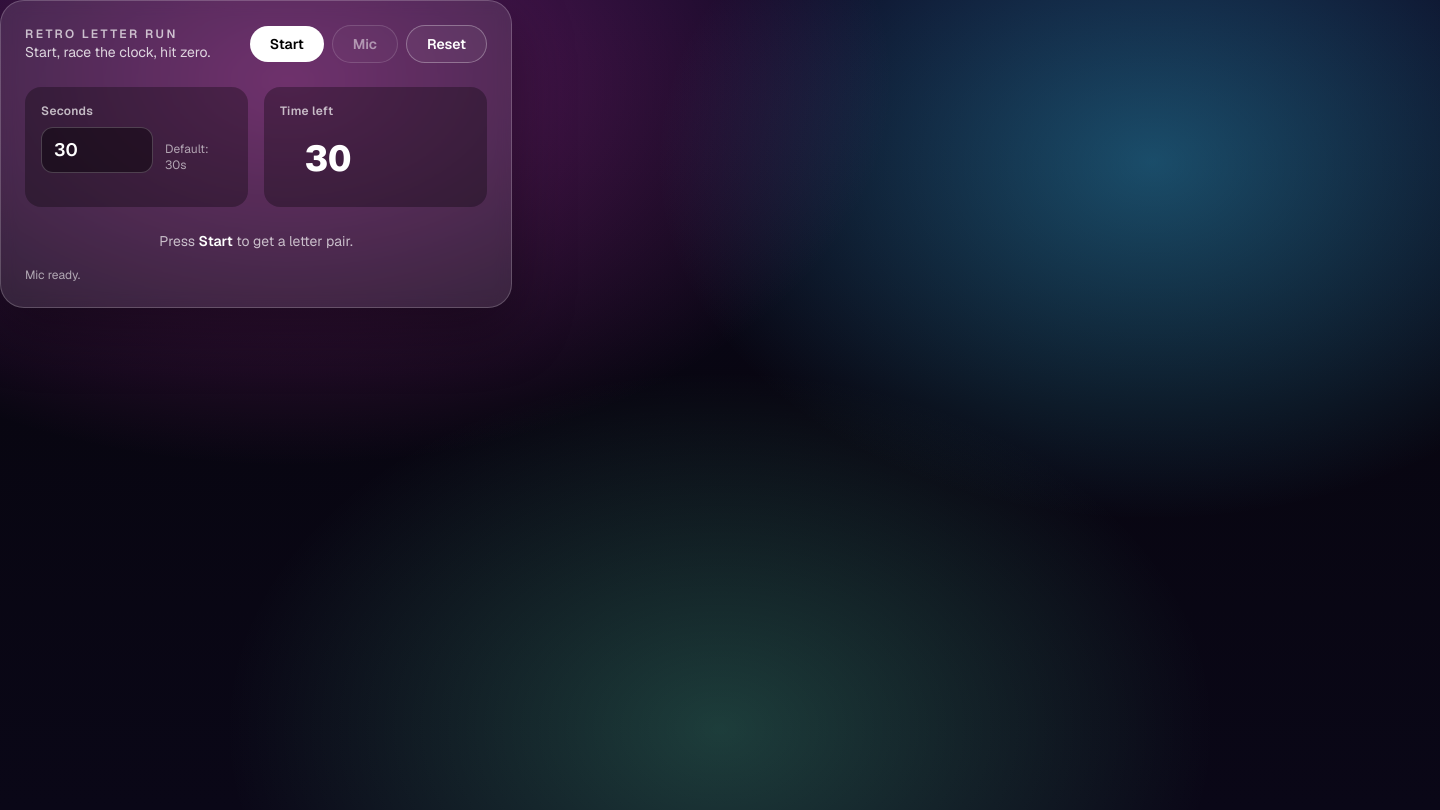
Test: LetterTimerGame › renders green/red tags for recognized dictionary words
Click the button "Start": (287, 44) 250,26 -> 324,62
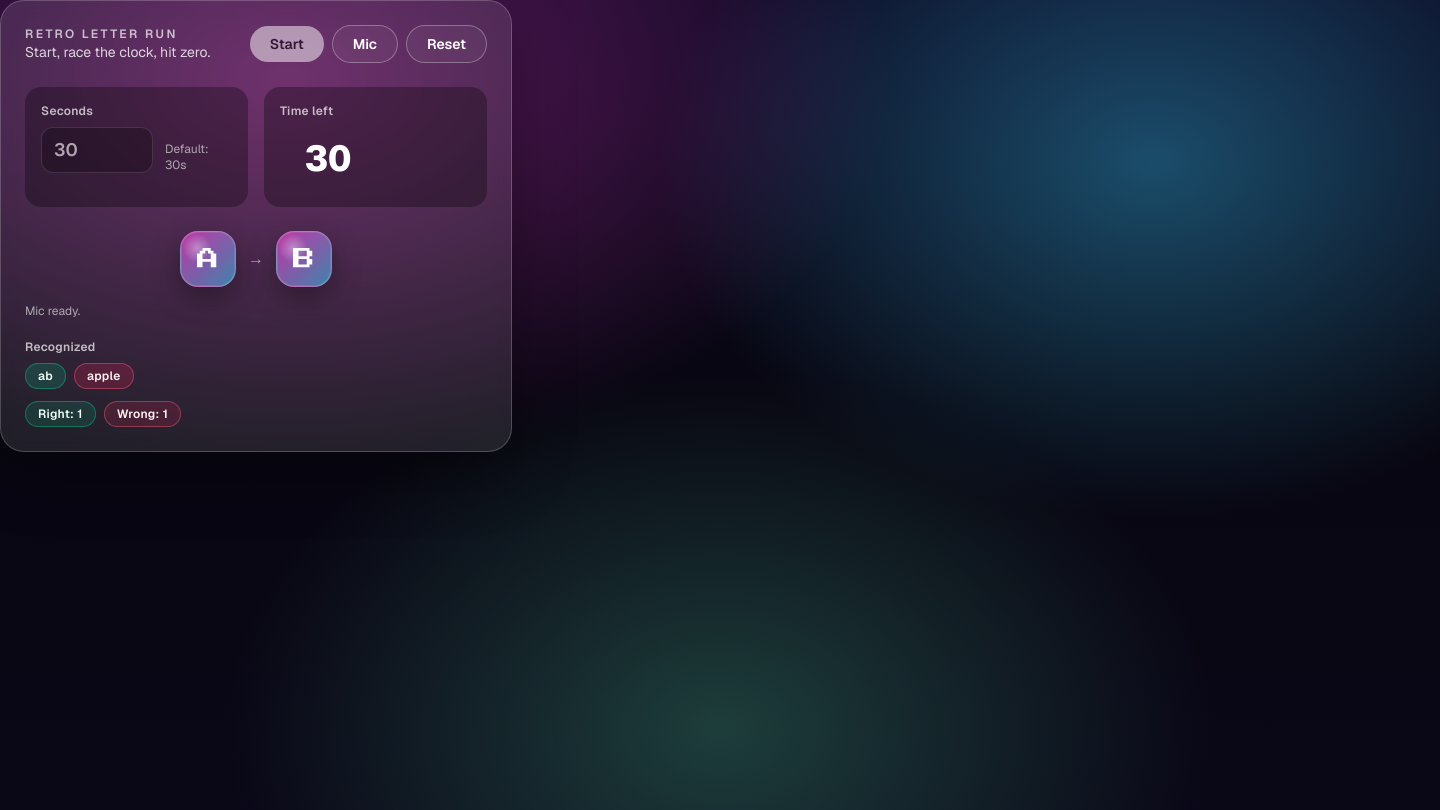
Expected: the element with test id "letter-pair" is shown, 180,231 -> 332,287
Expected: the text with test id "score-right" reads "Right: 1", 25,401 -> 96,427
Expected: the text with test id "score-wrong" reads "Wrong: 1", 104,401 -> 181,427
